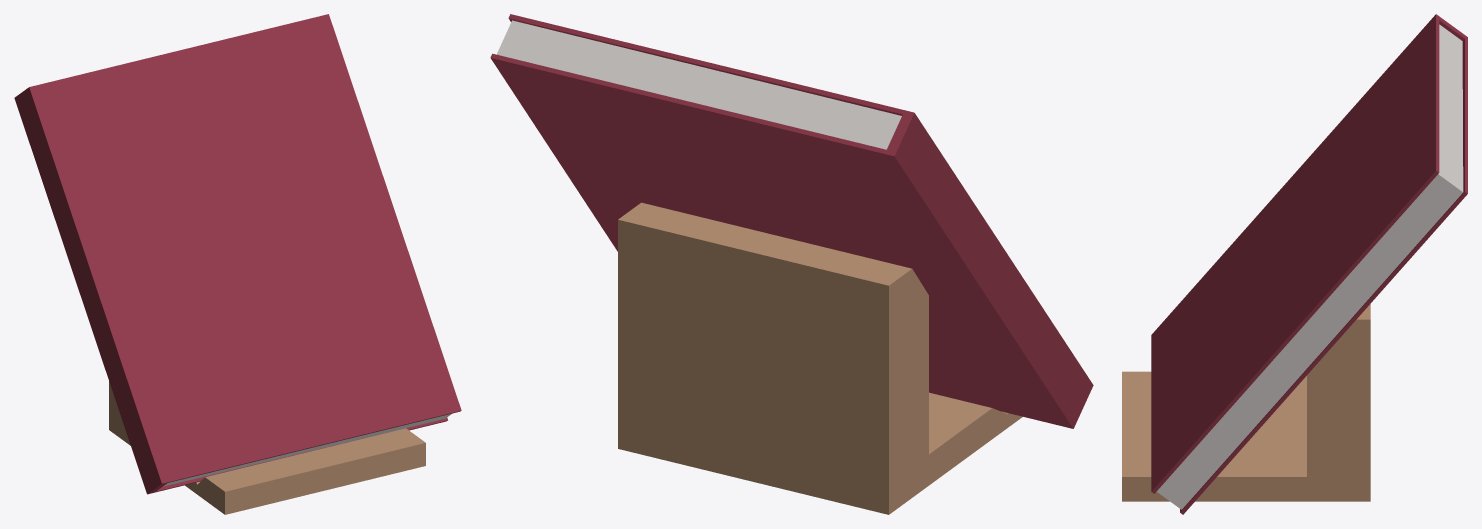
File: Book.glb
3 views of the same model, side by side, from view 1: azimuth 30°, elevation 25°; view 2: azimuth 150°, elevation 25°; view 3: azimuth 270°, elevation 25° (orthographic). The views are drawn at different scales.
Visible parts, largest first — view 1: BookWithBookStand; view 2: BookWithBookStand; view 3: BookWithBookStand.
Part boxes in pixels (x1,y1,x2,y2): BookWithBookStand: (14, 14, 461, 514); BookWithBookStand: (490, 14, 1093, 514); BookWithBookStand: (1122, 14, 1467, 514).
Size of the model in its own units: 0.1427 by 0.1514 by 0.133.
1 material, 1 textured.
